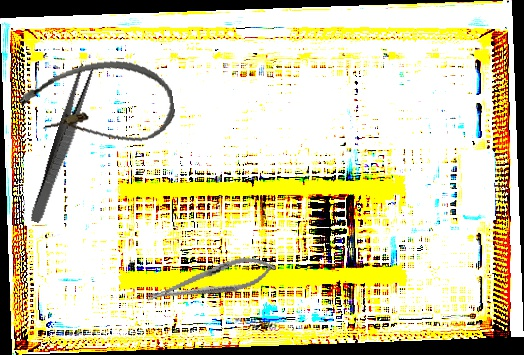Cannula: (16, 51, 179, 160)
Dressing Forceps: (28, 62, 97, 226)
Needle Holder: (142, 249, 280, 313)
